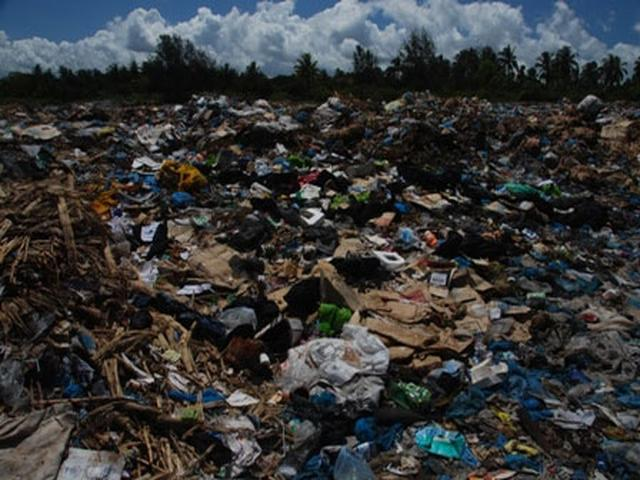garbage: (194, 121, 477, 449)
